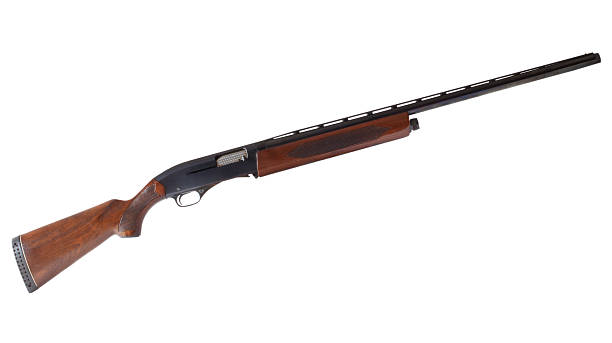shotgun: (12, 53, 612, 294)
